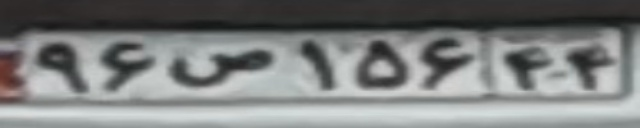1: (301, 40, 333, 91)
4: (565, 46, 614, 90), (507, 45, 549, 89)
5: (353, 38, 408, 89)
6: (415, 39, 474, 91), (98, 40, 155, 89)
9: (36, 42, 87, 93)
saat: (168, 47, 275, 88)
